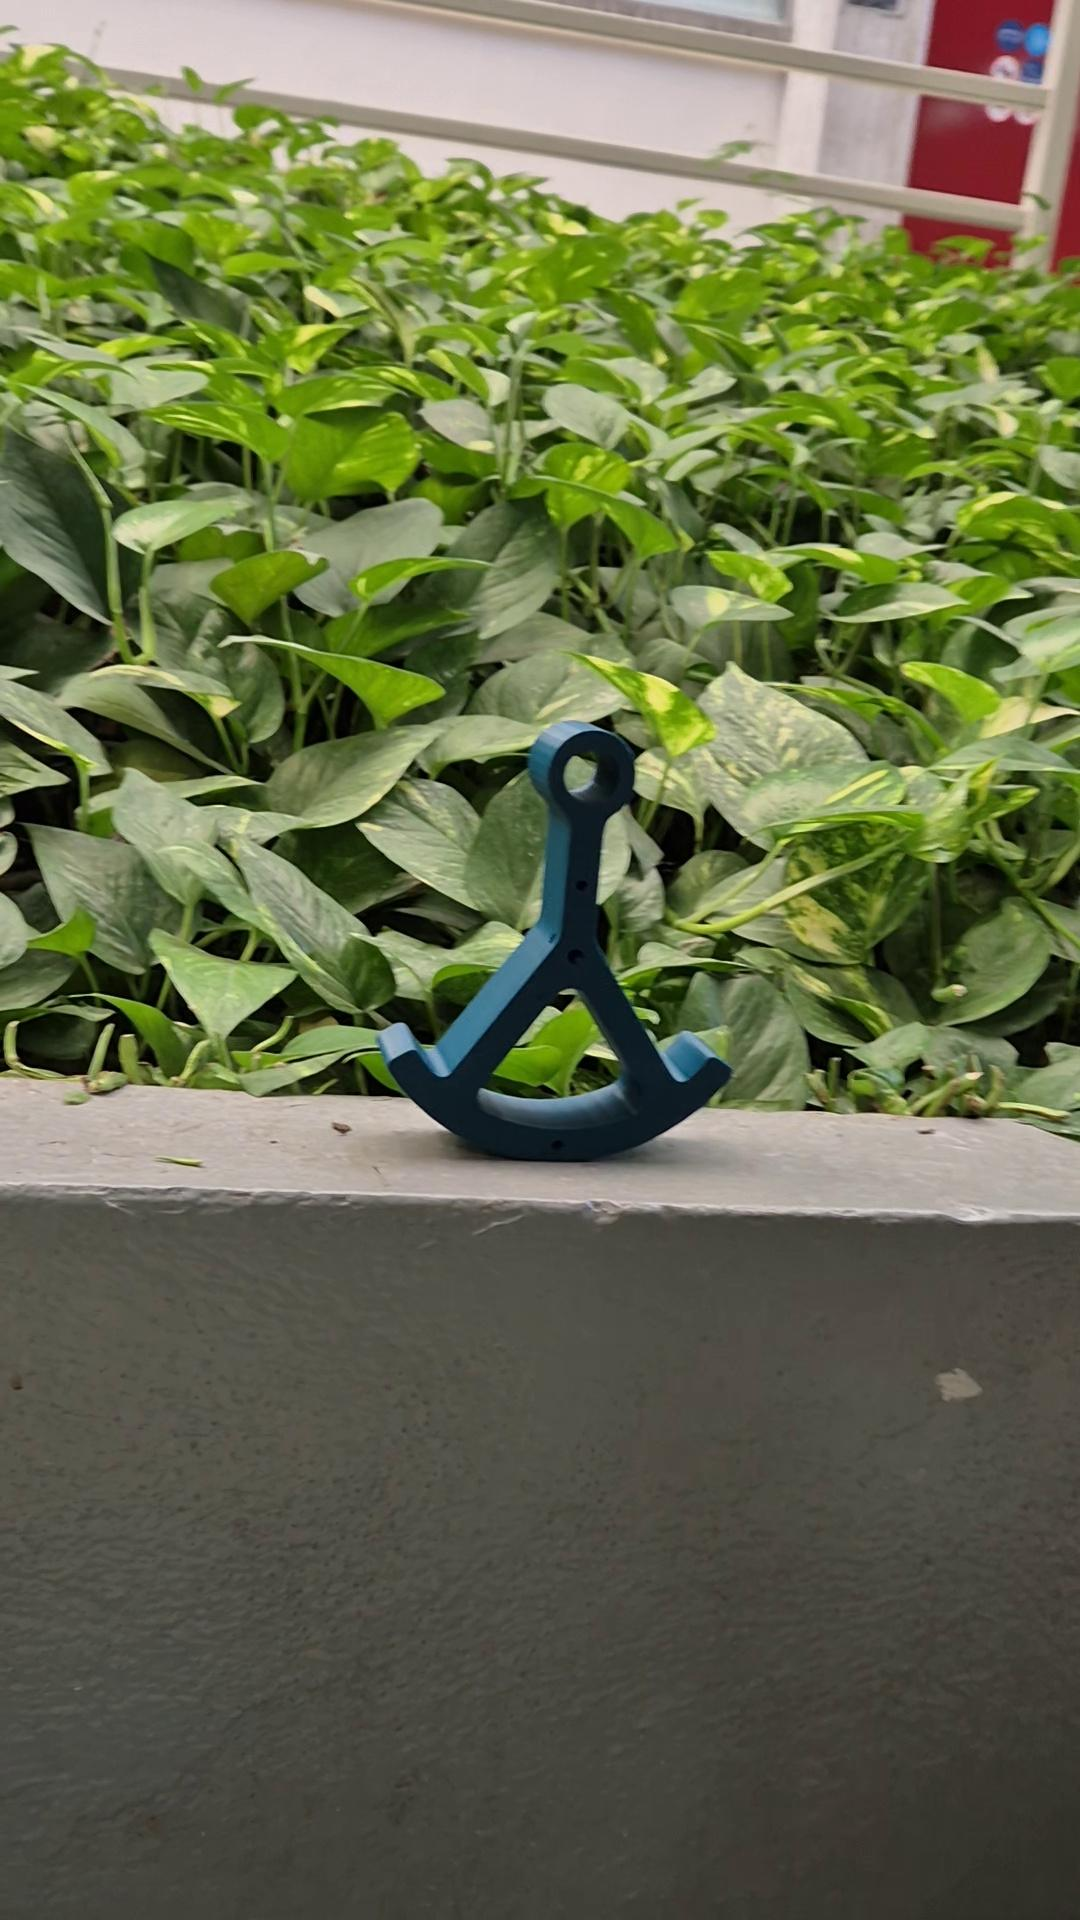Paddles: (373, 716, 736, 1166)
